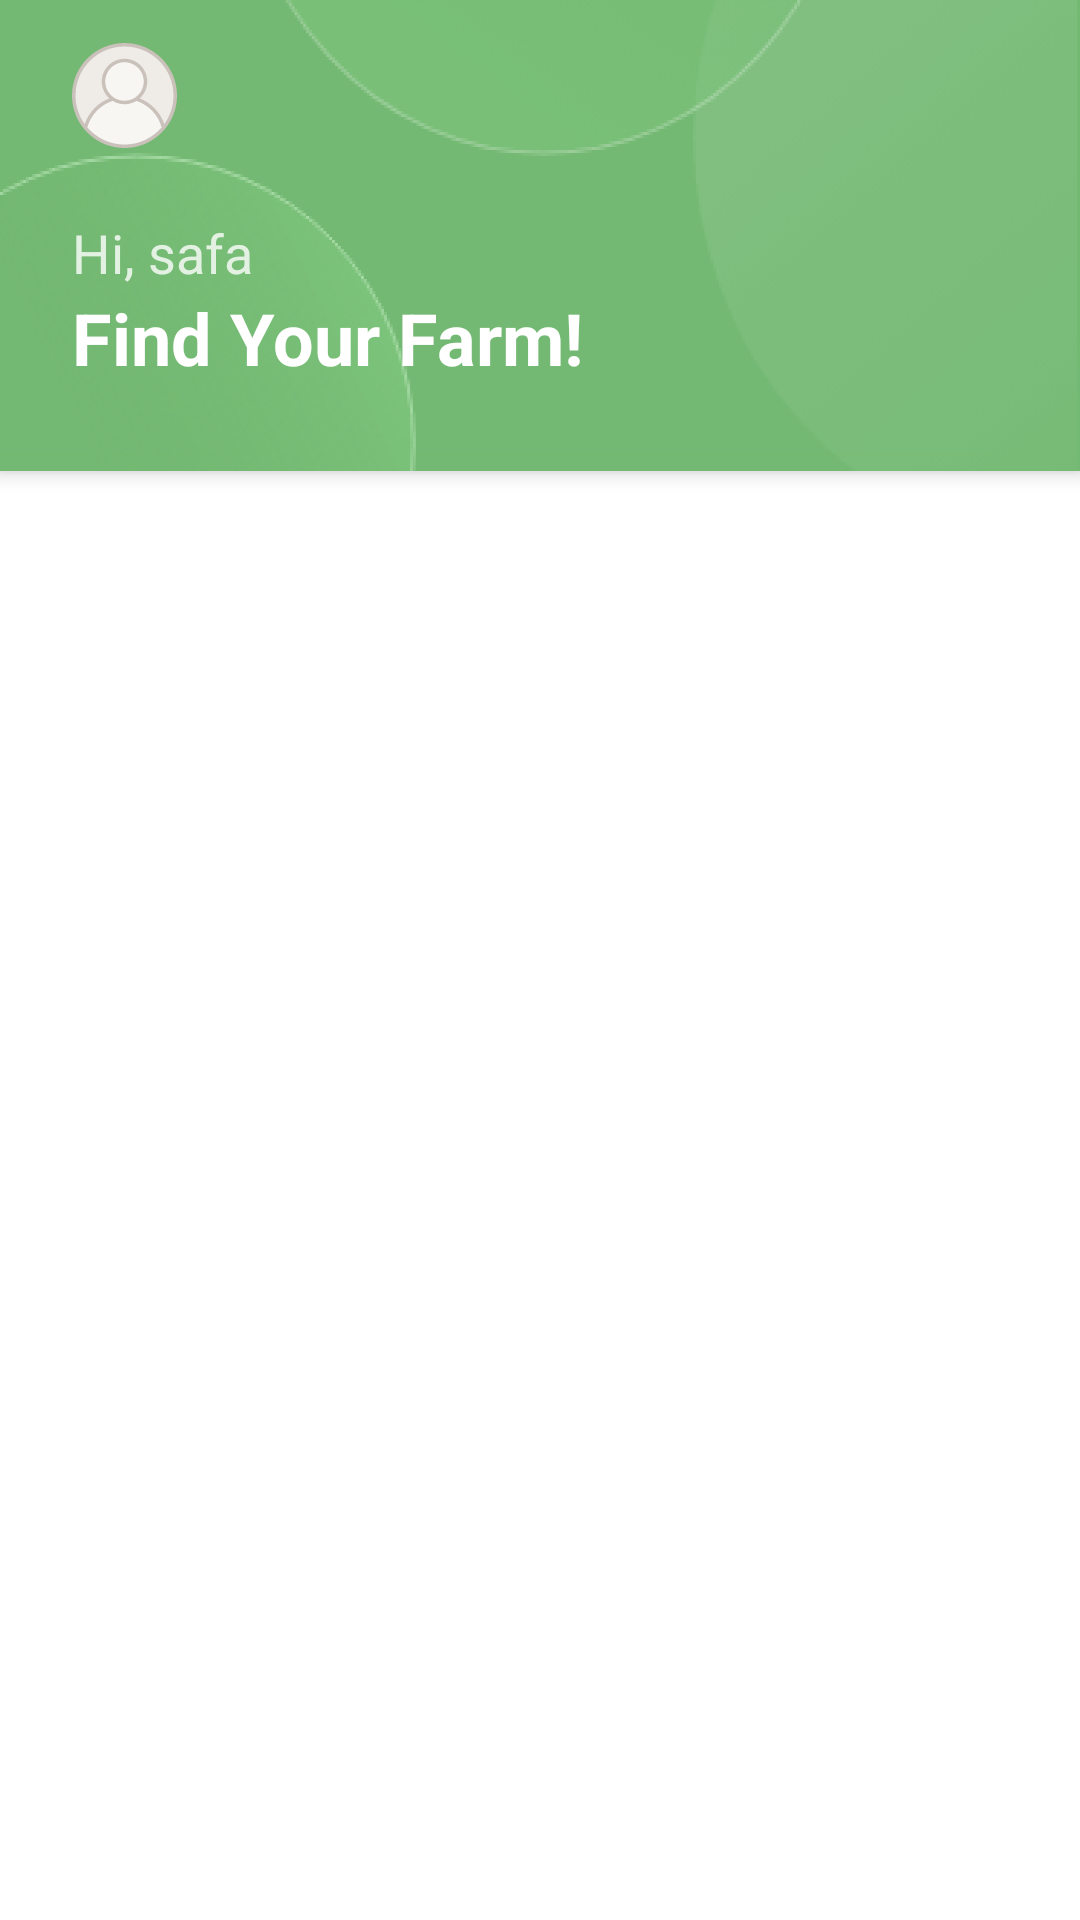

Where icons sit on this 1080x1920 app screen, as (x1, y1, x2, y2):
profile: (72, 43, 177, 148)
